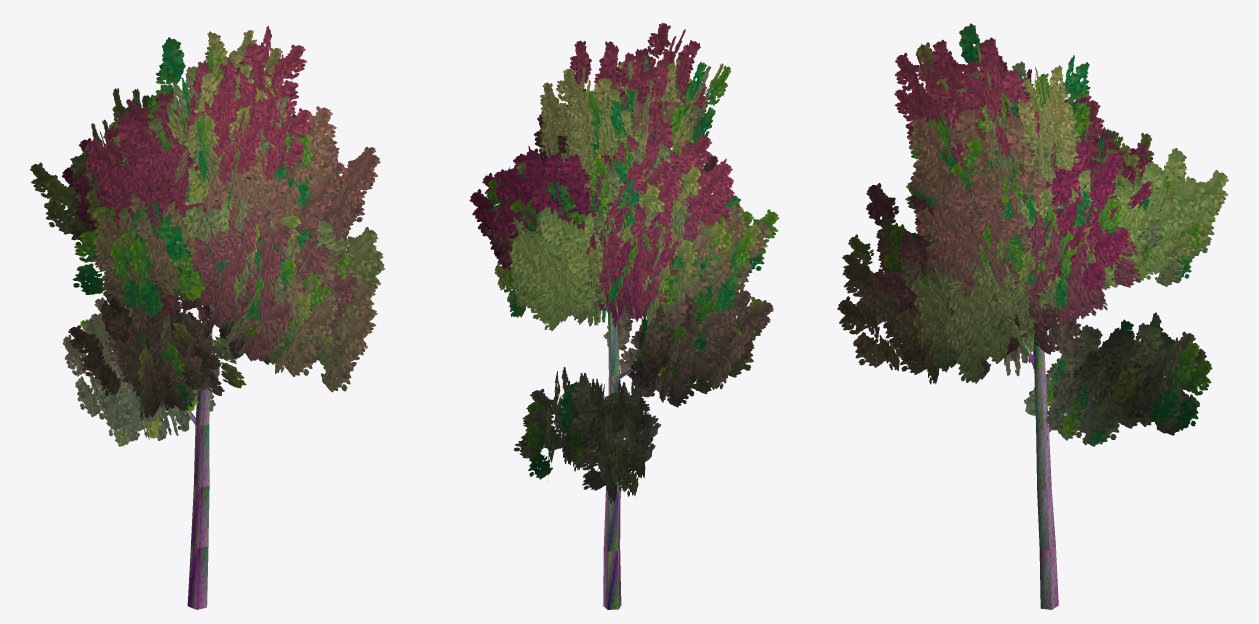
File: nat_birch_a_LOD1.glb
3 renders of one model, left to right at view 1: azimuth 30°, elevation 25°; view 2: azimuth 150°, elevation 25°; view 3: azimuth 270°, elevation 25°, orthographic. The views are drawn at different scales.
Visible parts, largest first — view 1: nat_birch_a_LOD1; view 2: nat_birch_a_LOD1; view 3: nat_birch_a_LOD1.
Boxes of the visible parts, x1,y1,x2,y2 form: nat_birch_a_LOD1: (30,26,384,609); nat_birch_a_LOD1: (469,23,779,609); nat_birch_a_LOD1: (837,23,1228,609).
Bounding box in the file's own units: 5.17 × 9.02 × 6.08.
Materials: 2 (2 with a texture image).
